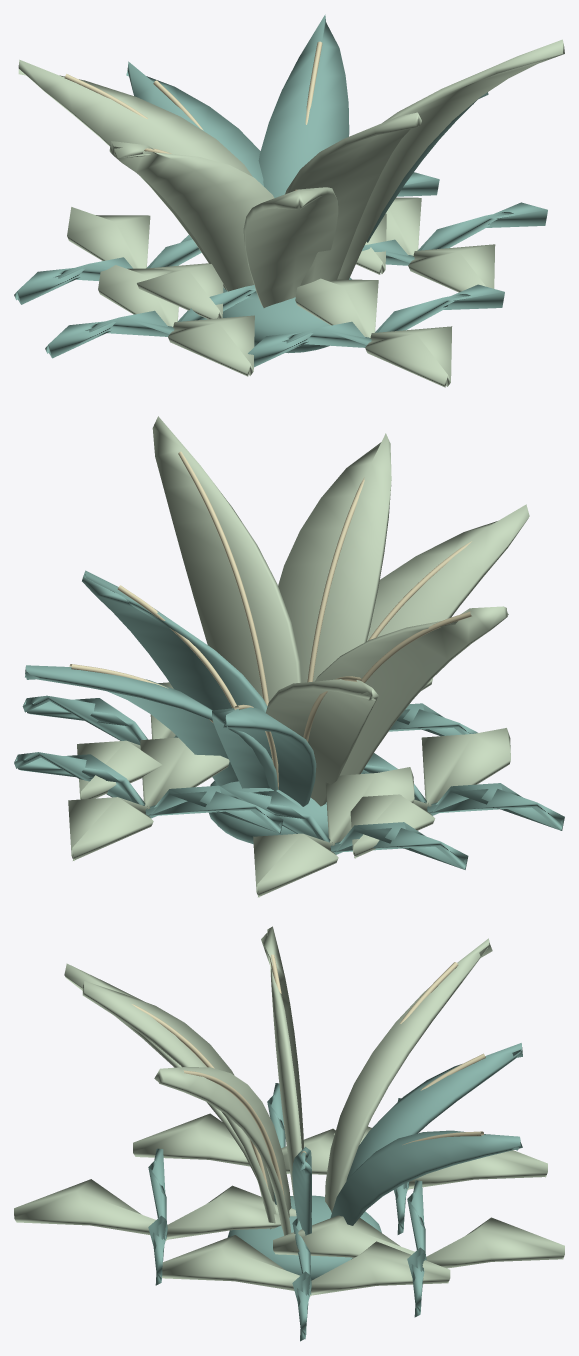
The model's file is bio_mist_leaf_05_near.glb.
3 views of the same model, one above another, from view 1: azimuth 30°, elevation 25°; view 2: azimuth 150°, elevation 25°; view 3: azimuth 270°, elevation 25° (orthographic). The views are drawn at different scales.
Parts seen in each view (by area): view 1: Cupped condensate leaf.004, Cupped condensate leaf.003, Cupped condensate leaf.007, Cupped condensate leaf.001, Cupped condensate leaf.002, Cupped condensate leaf.005, Low buttress leaf.009, Low buttress leaf.005, Low buttress leaf.017, Low buttress leaf.001, Low buttress leaf.008, Cupped condensate leaf.006 (+7 smaller); view 2: Cupped condensate leaf.005, Cupped condensate leaf.002, Cupped condensate leaf.004, Cupped condensate leaf.007, Cupped condensate leaf, Low buttress leaf.017, Low buttress leaf.013, Low buttress leaf.005, Cupped condensate leaf.001, Cupped condensate leaf.003, Cupped condensate leaf.006, Low buttress leaf.012 (+11 smaller); view 3: Low buttress leaf.001, Low buttress leaf.009, Cupped condensate leaf.001, Low buttress leaf.013, Cupped condensate leaf.003, Cupped condensate leaf.006, Cupped condensate leaf.002, Cupped condensate leaf.005, Cupped condensate leaf.004, Low buttress leaf.005, Low buttress leaf.017, Root rosette (+8 smaller).
Part boxes in pixels (left/top/right/bottom): Cupped condensate leaf.004: left=109, top=141, right=274, bottom=304; Cupped condensate leaf.003: left=258, top=14, right=349, bottom=197; Cupped condensate leaf.007: left=243, top=187, right=338, bottom=307; Cupped condensate leaf.001: left=18, top=59, right=252, bottom=290; Cupped condensate leaf.002: left=285, top=112, right=421, bottom=285; Cupped condensate leaf.005: left=337, top=39, right=564, bottom=279; Low buttress leaf.009: left=295, top=278, right=452, bottom=387; Low buttress leaf.005: left=67, top=207, right=223, bottom=319; Low buttress leaf.017: left=98, top=260, right=254, bottom=376; Low buttress leaf.001: left=385, top=197, right=495, bottom=292; Low buttress leaf.008: left=248, top=284, right=504, bottom=367; Cupped condensate leaf.006: left=126, top=61, right=263, bottom=186; Cupped condensate leaf.005: left=152, top=416, right=301, bottom=701; Cupped condensate leaf.002: left=278, top=433, right=391, bottom=682; Cupped condensate leaf.004: left=315, top=606, right=508, bottom=775; Cupped condensate leaf.007: left=367, top=504, right=529, bottom=640; Cupped condensate leaf: left=82, top=570, right=267, bottom=712; Low buttress leaf.017: left=350, top=728, right=510, bottom=858; Low buttress leaf.013: left=68, top=737, right=229, bottom=860; Low buttress leaf.005: left=253, top=767, right=414, bottom=897; Cupped condensate leaf.001: left=266, top=679, right=378, bottom=806; Cupped condensate leaf.003: left=25, top=665, right=277, bottom=790; Cupped condensate leaf.006: left=212, top=707, right=316, bottom=806; Low buttress leaf.012: left=14, top=752, right=283, bottom=833; Low buttress leaf.001: left=162, top=1235, right=450, bottom=1296; Low buttress leaf.009: left=14, top=1179, right=296, bottom=1240; Cupped condensate leaf.001: left=325, top=938, right=492, bottom=1212; Low buttress leaf.013: left=273, top=1215, right=564, bottom=1268; Cupped condensate leaf.003: left=330, top=1130, right=522, bottom=1225; Cupped condensate leaf.006: left=346, top=1043, right=522, bottom=1180; Cupped condensate leaf.002: left=82, top=981, right=275, bottom=1229; Cupped condensate leaf.005: left=154, top=1067, right=291, bottom=1235; Cupped condensate leaf.004: left=261, top=926, right=303, bottom=1198; Low buttress leaf.005: left=281, top=1128, right=547, bottom=1190; Low buttress leaf.017: left=133, top=1113, right=371, bottom=1173; Root rosette: left=227, top=1195, right=381, bottom=1280.
Bounding box in the file's own units: 2.22 × 1.25 × 2.09.
